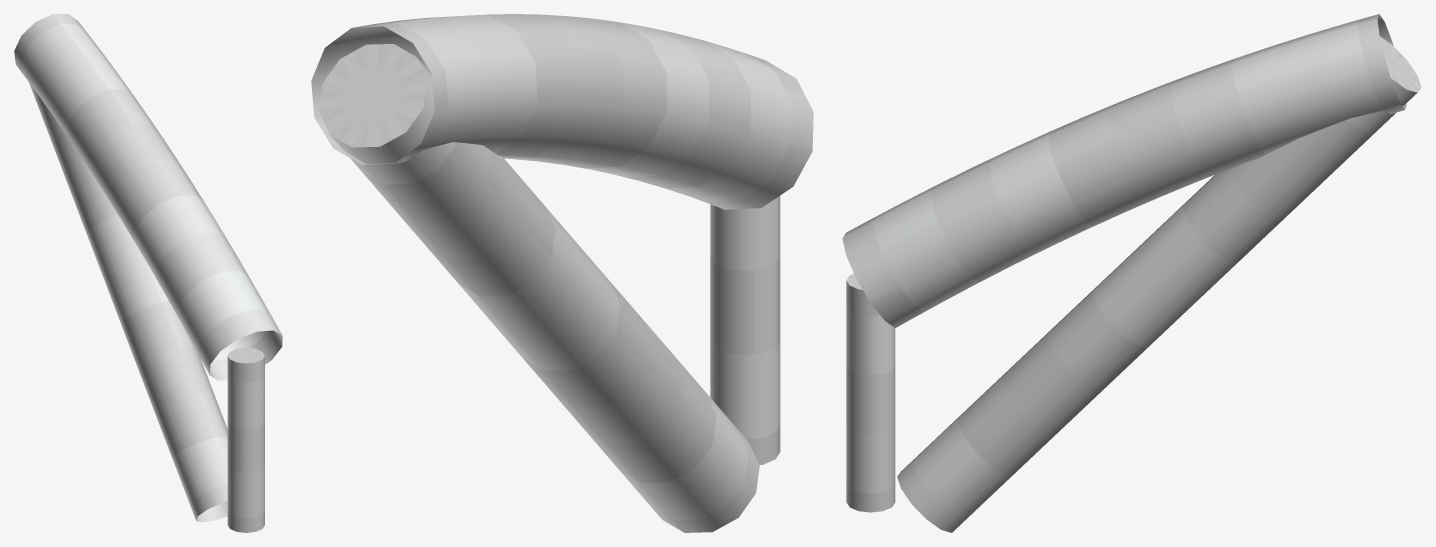
Rendered from luminairearm_truss8ft_c4.obj.
The picture shows the model from 3 angles, left to right: view 1: azimuth 30°, elevation 25°; view 2: azimuth 150°, elevation 25°; view 3: azimuth 270°, elevation 25°; orthographic projection. The views are drawn at different scales.
Parts seen in each view (by area): view 1: luminairearm_truss8ft_c4; view 2: luminairearm_truss8ft_c4; view 3: luminairearm_truss8ft_c4.
Boxes of the visible parts, left/top/right/bottom form: luminairearm_truss8ft_c4: left=14, top=14, right=282, bottom=532; luminairearm_truss8ft_c4: left=311, top=14, right=813, bottom=532; luminairearm_truss8ft_c4: left=842, top=14, right=1421, bottom=532.
Bounding box in the file's own units: 0.2083 × 1.08 × 1.11.
